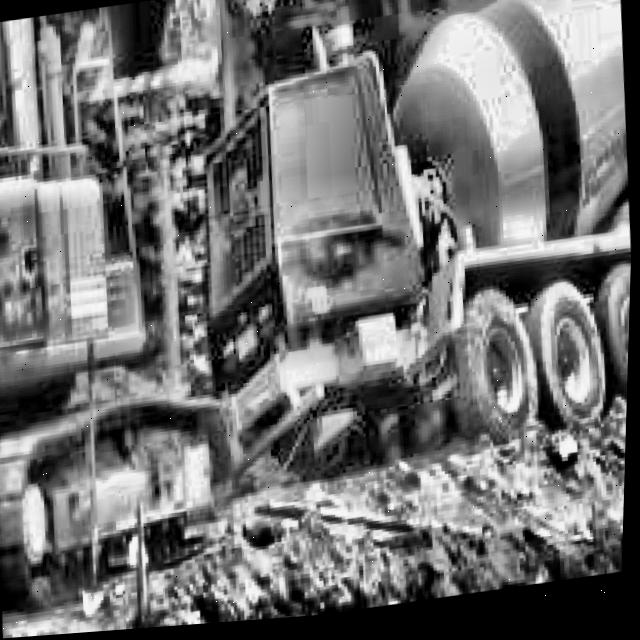excavator: (0, 0, 262, 613)
